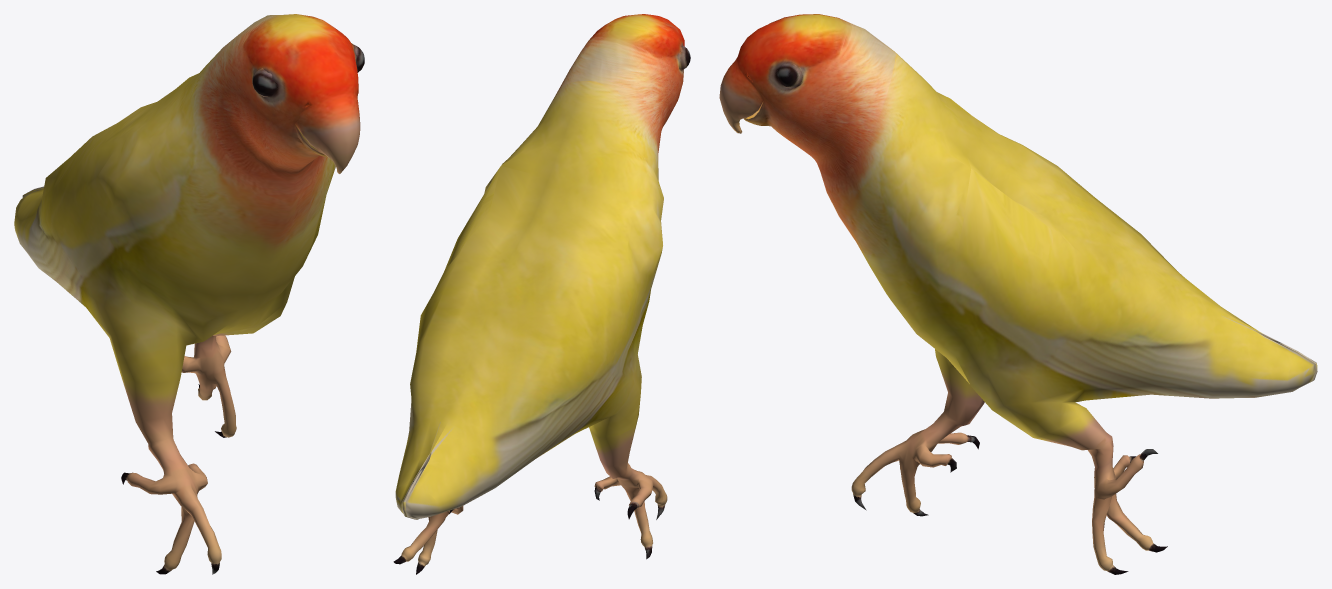
Rendered from lovebird_body.fbx.
The picture shows the model from 3 angles, left to right: view 1: azimuth 30°, elevation 25°; view 2: azimuth 150°, elevation 25°; view 3: azimuth 270°, elevation 25°; orthographic projection. The views are drawn at different scales.
Visible parts, largest first — view 1: lovebird; view 2: lovebird; view 3: lovebird.
Part boxes in pixels (<box>): lovebird: <box>14,14,364,574</box>; lovebird: <box>393,14,690,574</box>; lovebird: <box>719,14,1317,574</box>.
Size of the model in its own units: 152 by 380 by 388.
1 material, 1 textured.
